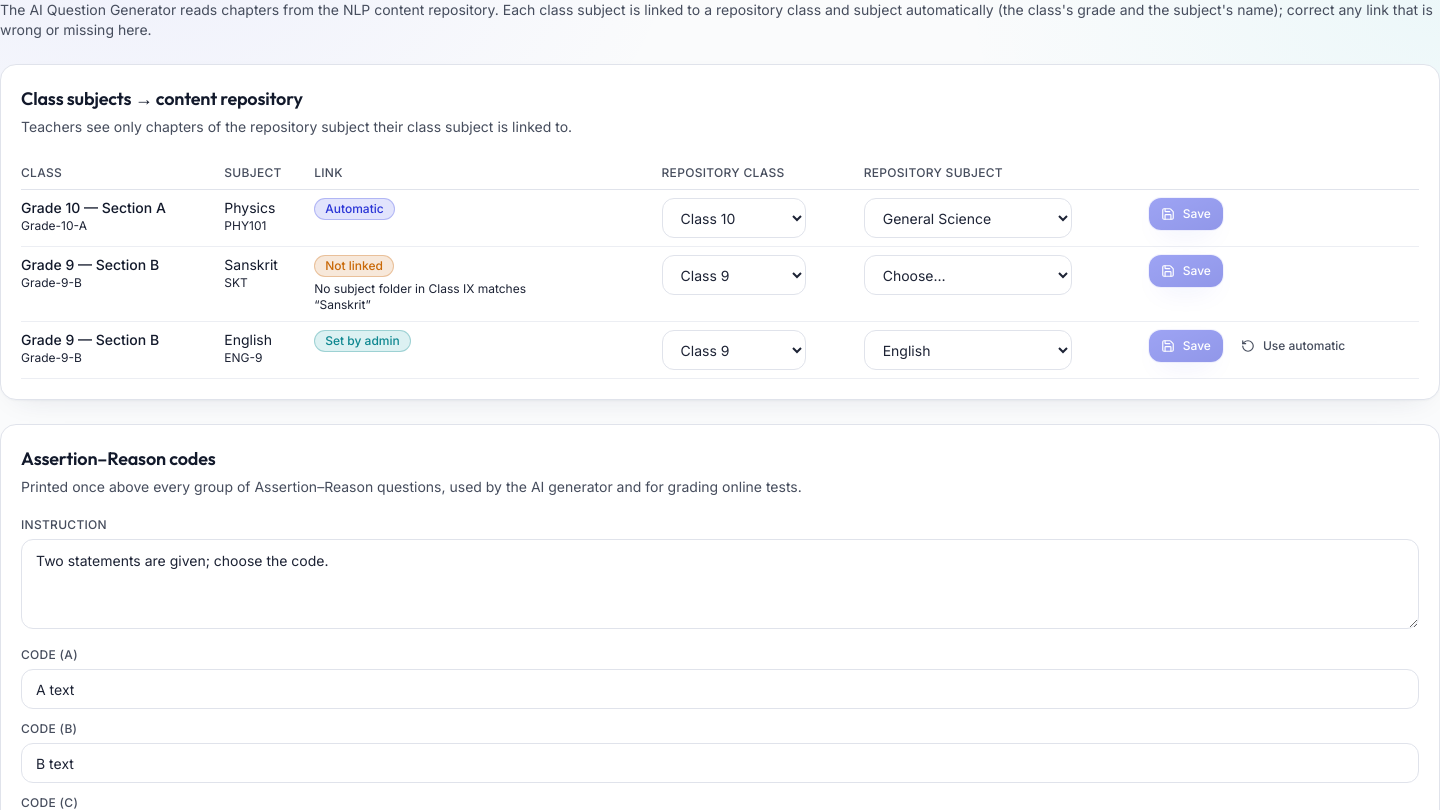
Test case: Question generator admin panel › edits the Assertion–Reason instruction and codes
Replace the text in the field labelled "Code (B)" with "Both true, R does not explain A" at (720, 763), box [21,743,1419,783]
(page scrolled)
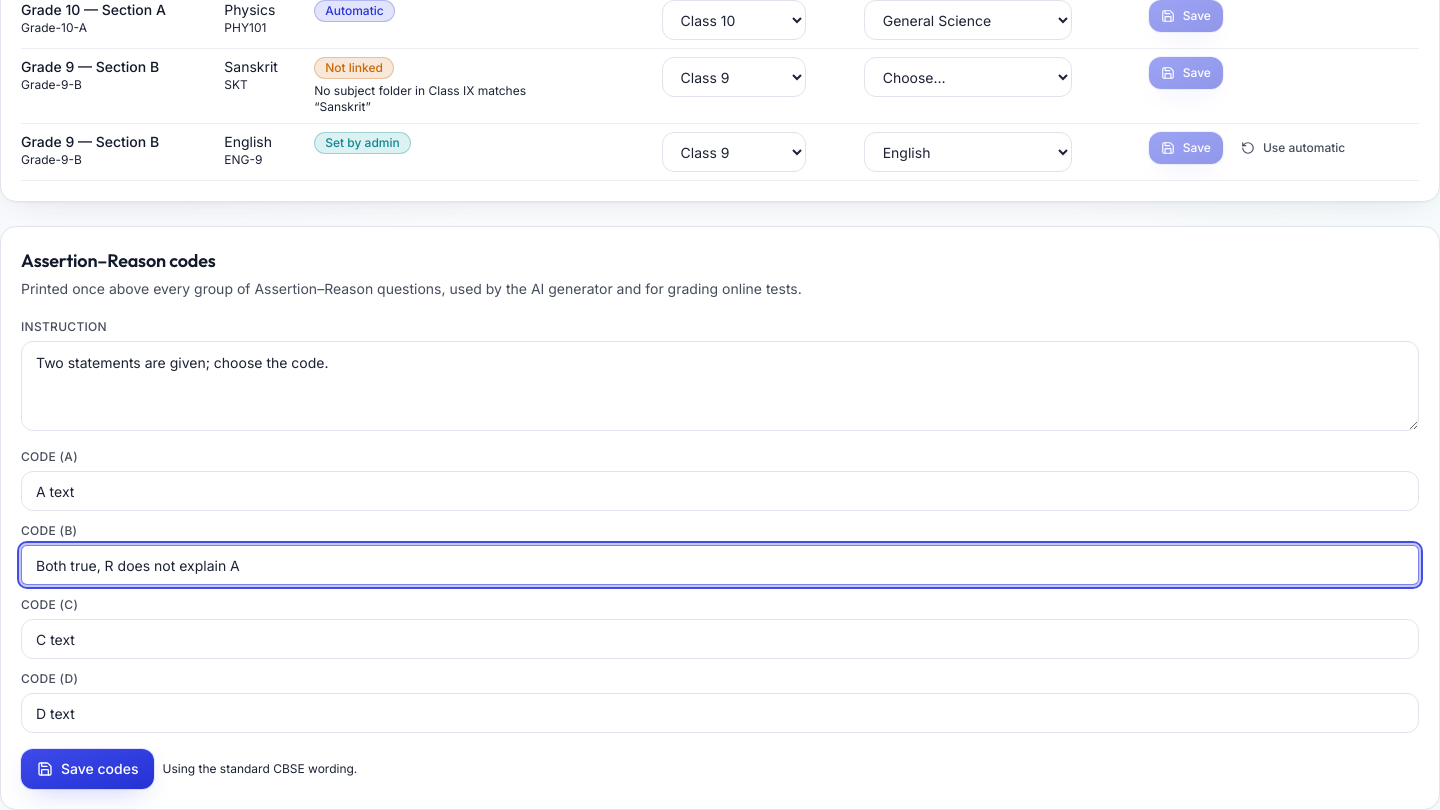
Click the button "Save codes".
click(88, 769)  # box [21,749,154,789]
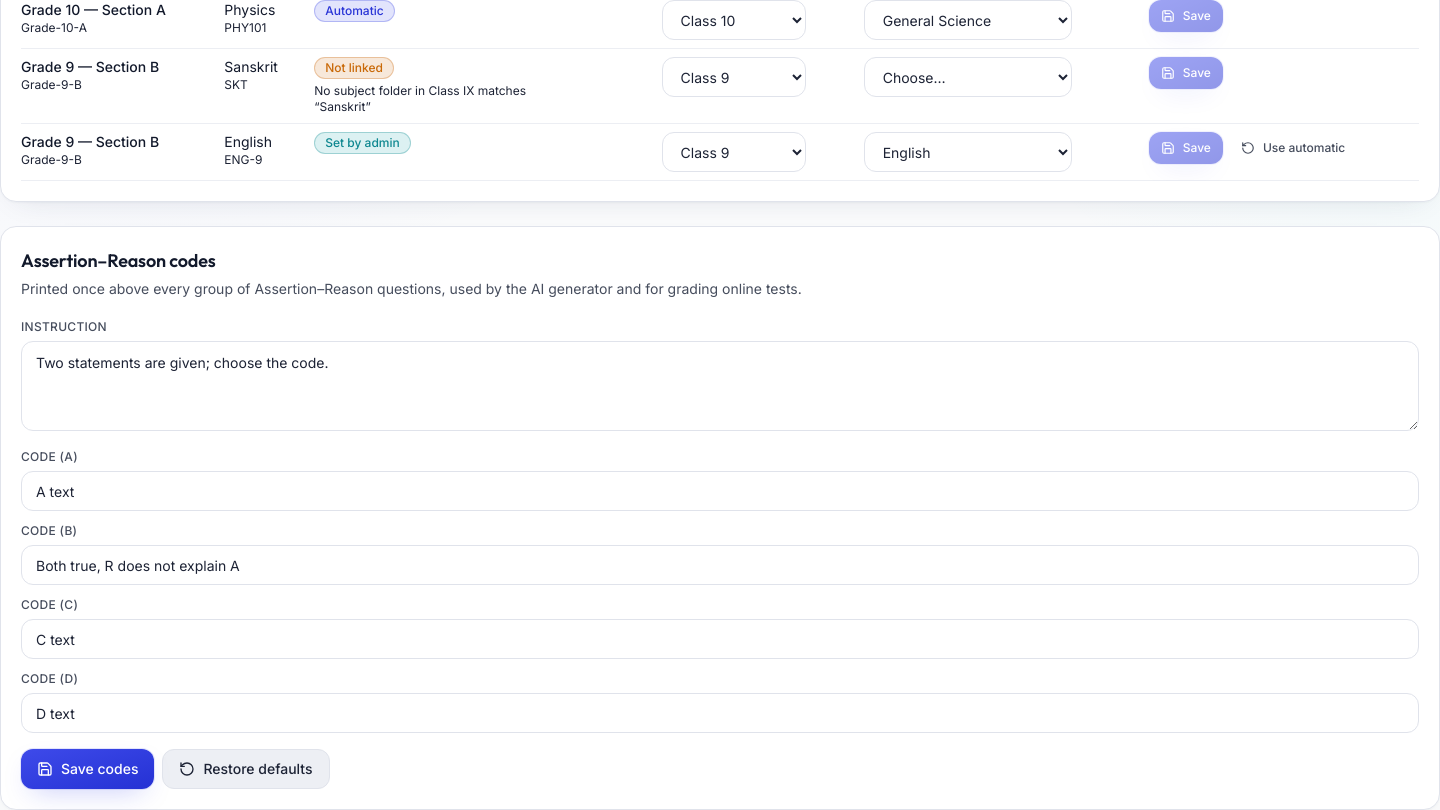
Check: the button "Restore defaults" is shown, box [162,749,330,789]
